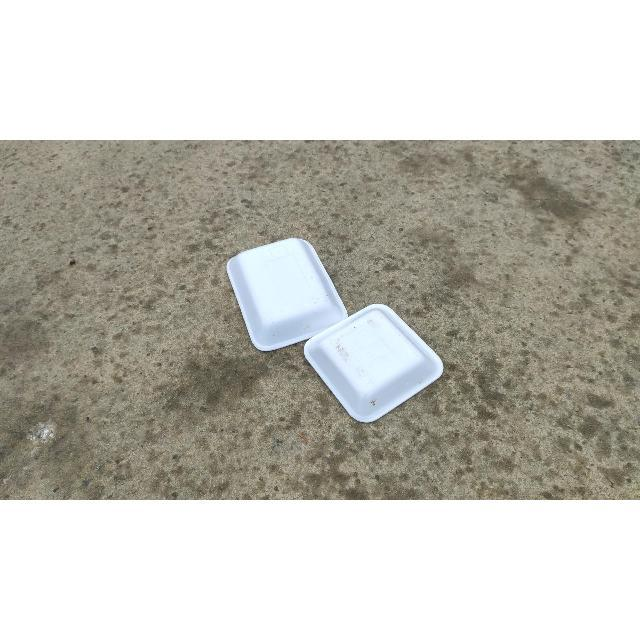Plastico descartable: (302, 304, 445, 425), (224, 238, 352, 353)
